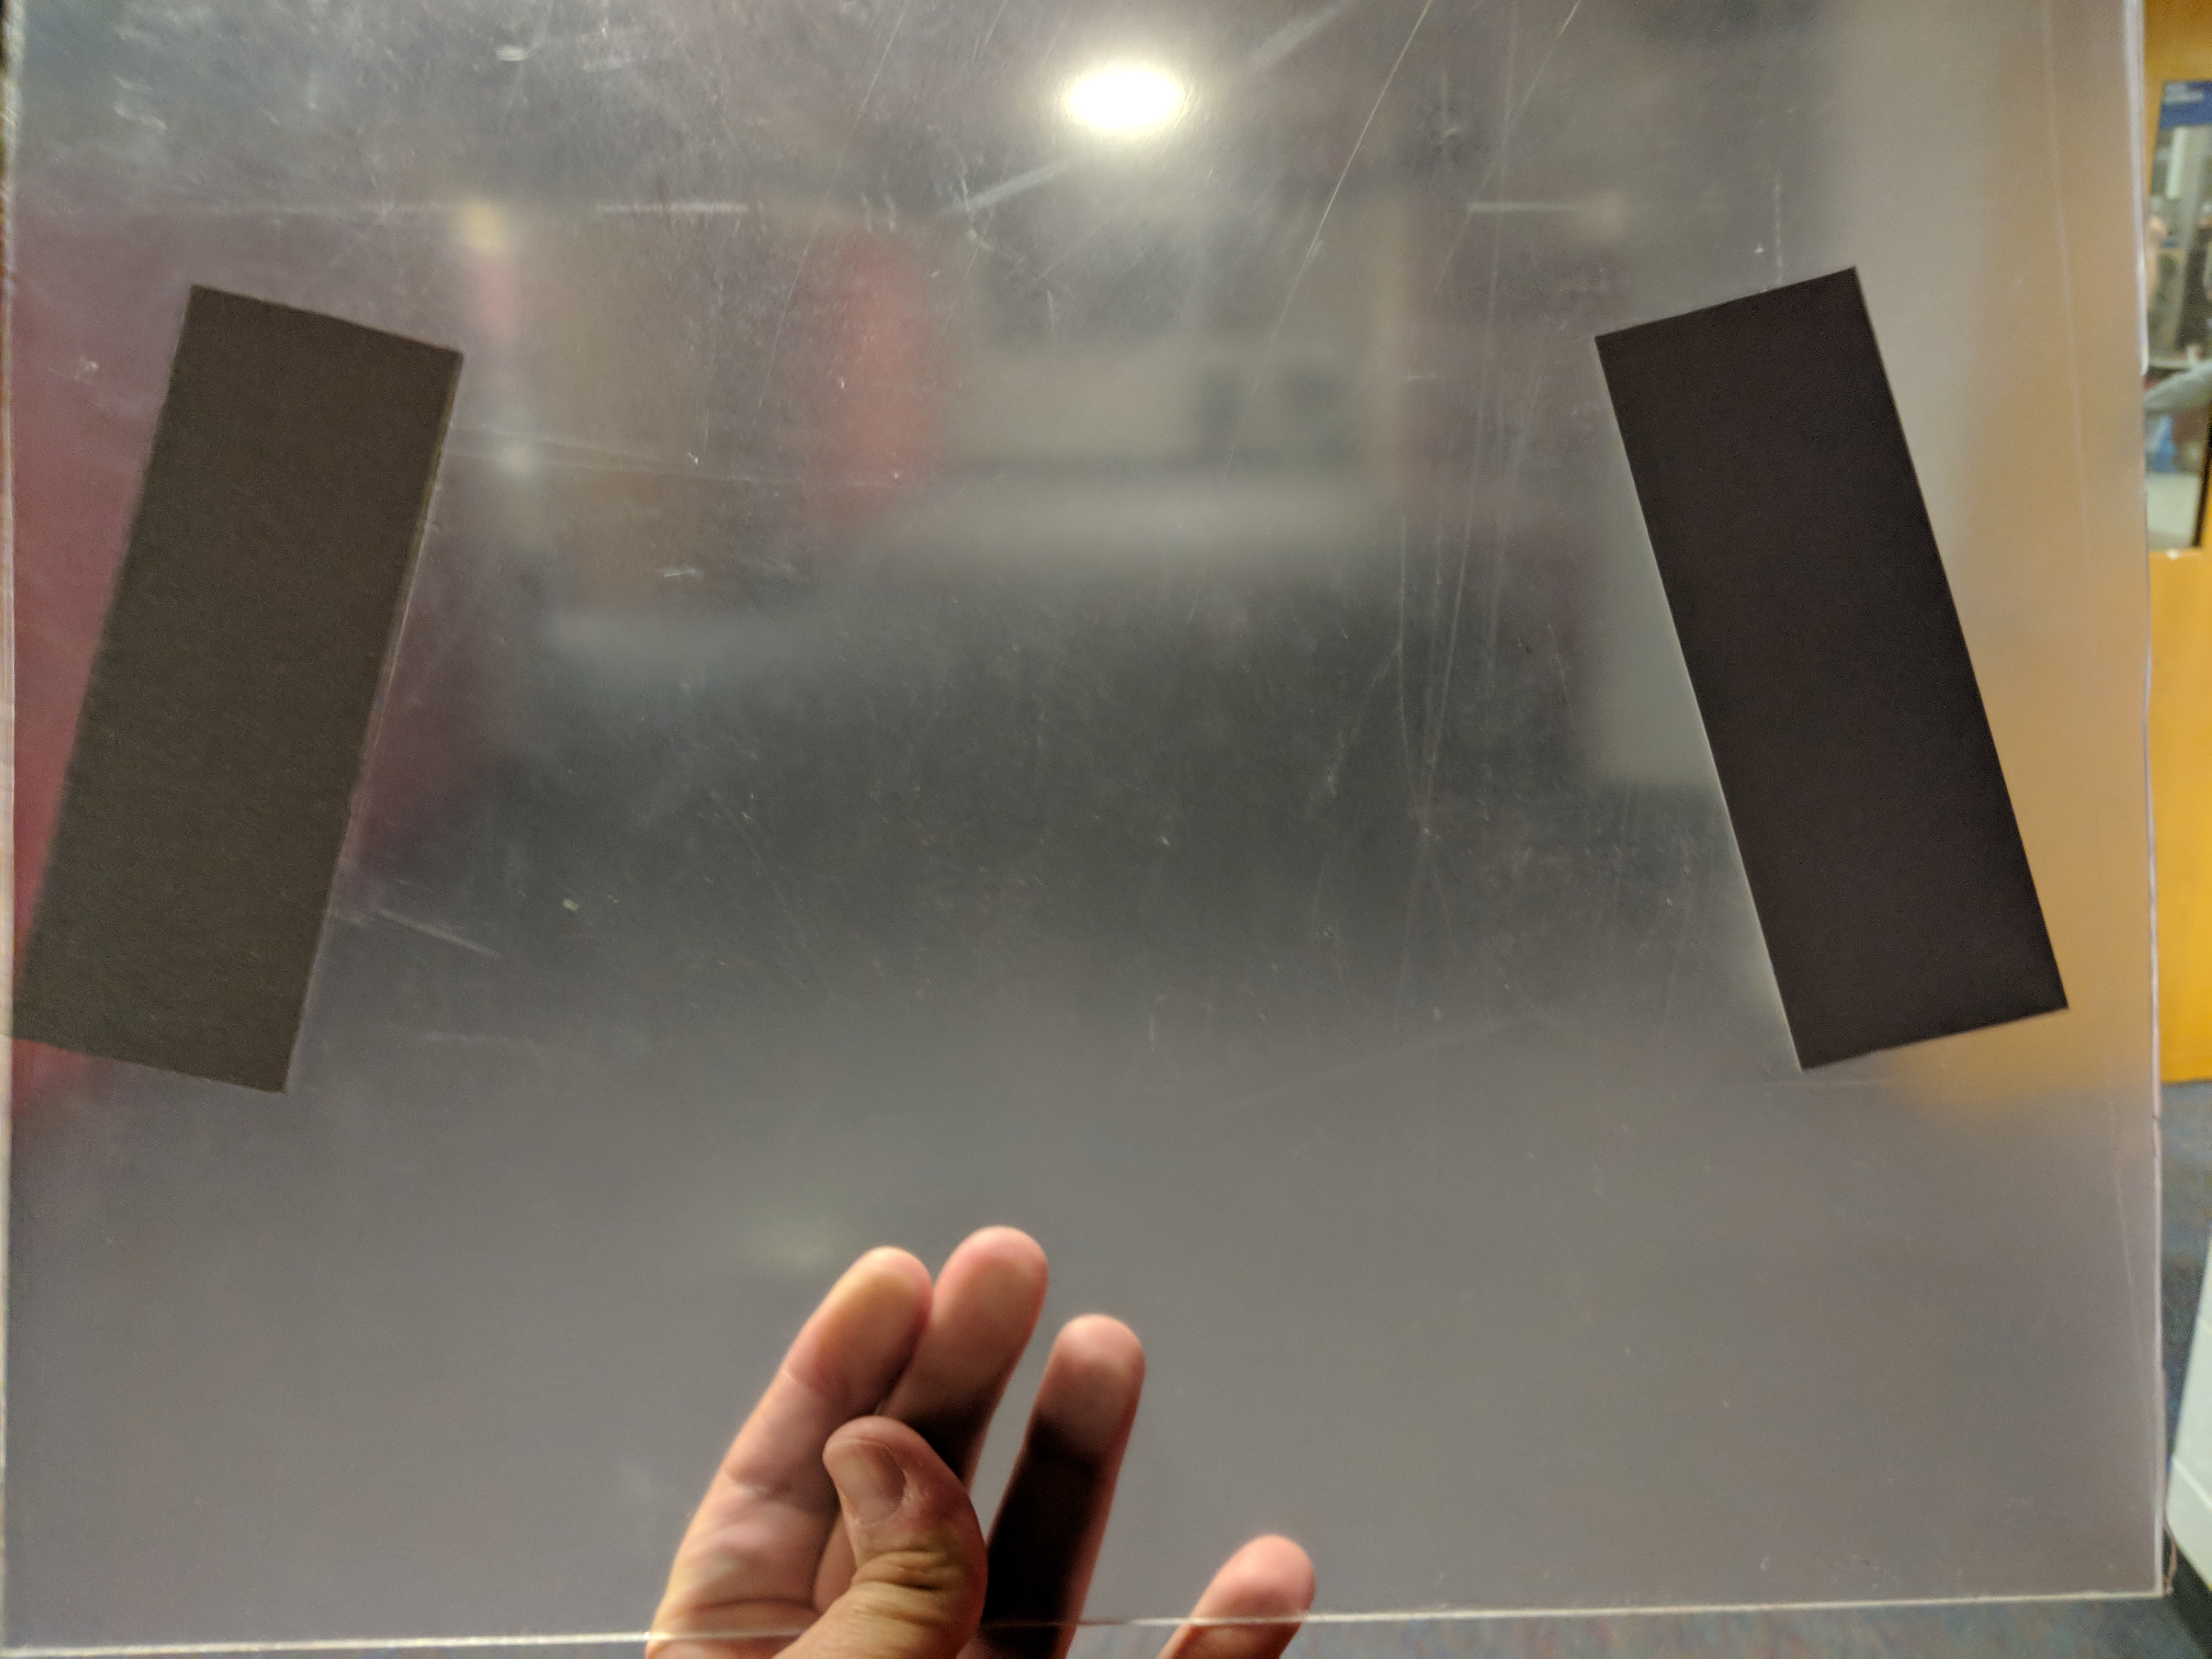vision_target: (24, 268, 2088, 1110)
